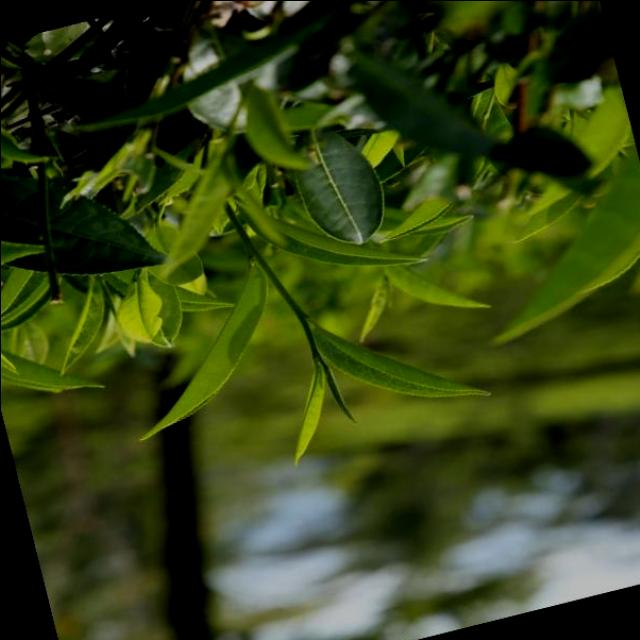Stem: (298, 312, 305, 322)
